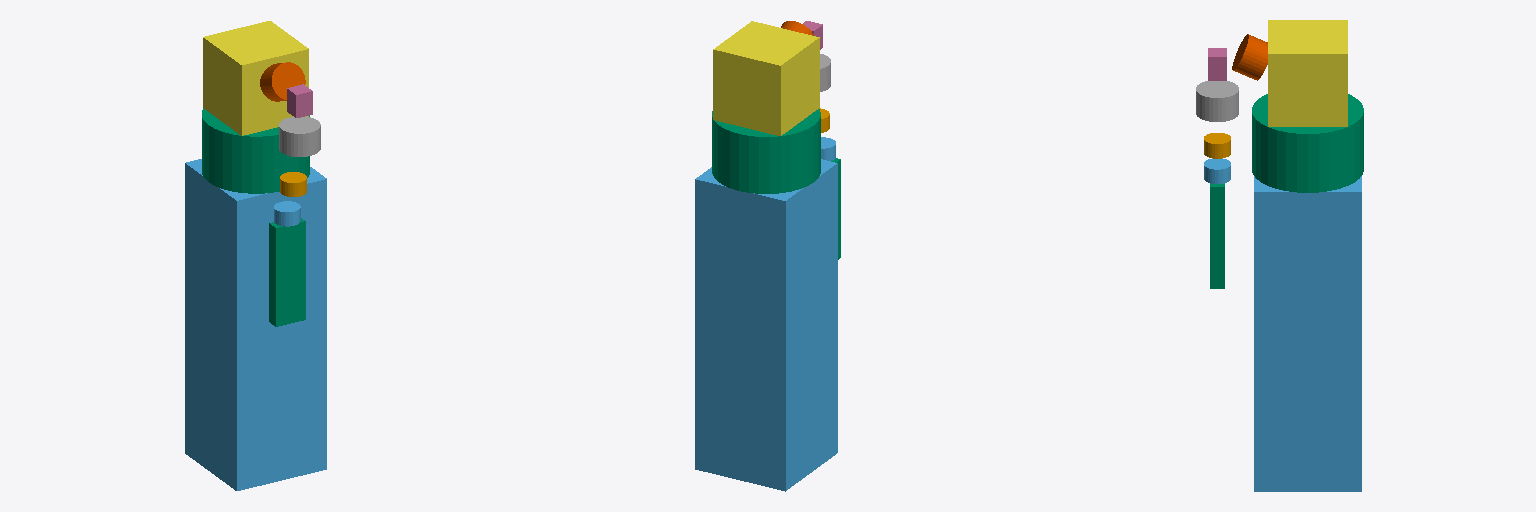
The robot description file, URDF, robot "prometheus_sim":
<?xml version="1.0"?>
<robot name="prometheus_sim">


<!-- * * * Link Definitions * * * -->
    <link name="world"/>

    <link name="base_link">
        <visual>
        <origin rpy="0 0 0" xyz="0 0 0.4112"/>
        <geometry>
            <box size="0.268 0.268 0.8224"/>
        </geometry>
        </visual>
    </link>

    <link name="torso_yaw_link">
        <visual>
        <origin rpy="0 0 0" xyz="0 0 0.08085"/>
        <geometry>
            <cylinder radius="0.14" length="0.16174"/>
        </geometry>
        </visual>
    </link>

    <link name="torso_pitch_link">
        <visual>
        <origin rpy="0 0 0" xyz="0 0 0.1"/>
        <geometry>
            <box size="0.2 0.2 0.2"/>
        </geometry>
        </visual>
    </link>

    <link name="torso_ref_origin_link">
        <visual>
        <origin rpy="0 0 0" xyz="0 0 0"/>
        <geometry>
            <box size="0.005 0.005 0.005"/>
        </geometry>
        </visual>
    </link>

    <link name="right_DOF1_link">
        <visual>
        <origin rpy="0 0 0" xyz="0 0 0.033045"/>
        <geometry>
            <cylinder radius="0.049" length="0.06609"/>
        </geometry>
        </visual>
    </link>   

    <link name="right_DOF2_link">
        <visual>
        <origin rpy="0 0 0" xyz="0 0.05827567 0.033045"/>
        <geometry>
            <box size="0.049 0.049 0.06609"/>
        </geometry>
        </visual>
    </link>

    <link name="right_DOF3_link">
        <visual>
        <origin rpy="0 0 0" xyz="0 0 0.033045"/>
        <geometry>
            <cylinder radius="0.054" length="0.06609"/>
        </geometry>
        </visual>
    </link>  

    <link name="right_DOF4_link">
        <visual>
        <origin rpy="0 0 0" xyz="0 0 0.02"/>
        <geometry>
            <cylinder radius="0.03450" length="0.04"/>
        </geometry>
        </visual>
    </link>

    <link name="right_DOF5_link">
        <visual>
        <origin rpy="0 0 0" xyz="0 0 0.02"/>
        <geometry>
            <cylinder radius="0.03450" length="0.04"/>
        </geometry>
        </visual>
    </link>

    <link name="right_DOF6_link">
        <visual>
        <origin rpy="0 0 0" xyz="0 0 0.14"/>
        <geometry>
            <box size="0.087 0.036 0.28"/>
        </geometry>
        </visual>
    </link>

<!-- * * * Joint Definitions * * * -->

    <joint name="fixed" type="fixed">
        <parent link="world"/>
        <child link="base_link"/>
    </joint>

    <joint name="torso_yaw_joint" type="revolute">
        <parent link="base_link"/>
        <child link="torso_yaw_link"/>
        <origin xyz="0 0 0.8224" rpy="0 0 0"/>
        <limit lower="-1.57079" upper="1.57079" effort="0.1" velocity="0.01"/>
        <axis xyz="0 0 1"/>
    </joint>

    <joint name="torso_pitch_joint" type="revolute">
        <parent link="torso_yaw_link"/>
        <child link="torso_pitch_link"/>
        <origin xyz="0 0 0.16174" rpy="0 0 0"/>
        <limit lower="-0.174533" upper="0.610865" effort="0.1" velocity="0.01"/>
        <axis xyz="0 1 0"/>
    </joint>

    <joint name="torso_ref_joint" type="fixed">
        <parent link="torso_pitch_link"/>
        <child link="torso_ref_origin_link"/>
        <origin xyz="0 0 0.08100989" rpy="0 0 0"/>
    </joint>

    <joint name="right_DOF1_joint" type="revolute">
        <parent link="torso_ref_origin_link"/>
        <child link="right_DOF1_link"/>
        <origin xyz="0 -0.10758116 0.05016592" rpy="1.13446 0 0"/>
        <limit lower="-0.872664626" upper="3.14159" effort="0.1" velocity="0.01"/>
        <axis xyz="0 0 1"/>
    </joint>

    <joint name="right_DOF2_joint" type="revolute">
        <parent link="right_DOF1_link"/>
        <child link="right_DOF2_link"/>
        <origin xyz="0 0 0.06503000" rpy="2.00713 0 0"/>
        <limit lower="-2.44346095" upper="0.174533" effort="0.1" velocity="0.01"/>
        <axis xyz="1 0 0"/>
    </joint>

    <joint name="right_DOF3_joint" type="revolute">
        <parent link="right_DOF2_link"/>
        <child link="right_DOF3_link"/>
        <origin xyz="0 0.05827567 0.10006000" rpy="0 0 0"/>
        <limit lower="-1.91986218" upper="2.44346095" effort="0.1" velocity="0.01"/>
        <axis xyz="0 0 1"/>
    </joint>

    <joint name="right_DOF4_joint" type="revolute">
        <parent link="right_DOF3_link"/>
        <child link="right_DOF4_link"/>
        <origin xyz="-0.01852500 0 0.14434000" rpy="0 0 0"/>
        <limit lower="-0.174533" upper="2.26893" effort="0.1" velocity="0.01"/>
        <axis xyz="0 1 0"/>
    </joint>

    <joint name="right_DOF5_joint" type="revolute">
        <parent link="right_DOF4_link"/>
        <child link="right_DOF5_link"/>
        <origin xyz="-0.01852620 0 0.07852620" rpy="0 0 0"/>
        <limit lower="-2.26893" upper="2.26893" effort="0.1" velocity="0.01"/>
        <axis xyz="0 0 1"/>
    </joint>

    <joint name="right_DOF6_joint" type="revolute">
        <parent link="right_DOF5_link"/>
        <child link="right_DOF6_link"/>
        <origin xyz="0 0 0.04330000" rpy="0 0 0"/>
        <limit lower="-1.22173048" upper="1.57079633" effort="0.1" velocity="0.01"/>
        <axis xyz="1 0 0"/>
    </joint>


</robot>

--- Render facts (derived) ---
Views: 3 orthographic renders of the robot side by side, from view 1: azimuth 30°, elevation 25°; view 2: azimuth 150°, elevation 25°; view 3: azimuth 270°, elevation 25°.
Model prometheus_sim with 11 links and 10 joints (8 revolute, 2 fixed), rooted at world, posed every joint at zero.
Links seen in each view (by area): view 1: base_link, torso_pitch_link, torso_yaw_link, right_DOF6_link, right_DOF3_link, right_DOF1_link, right_DOF2_link, right_DOF5_link, right_DOF4_link; view 2: base_link, torso_pitch_link, torso_yaw_link; view 3: base_link, torso_pitch_link, torso_yaw_link, right_DOF3_link, right_DOF6_link, right_DOF1_link, right_DOF4_link, right_DOF5_link, right_DOF2_link.
Boxes of the visible links, left/top/right/bottom form: base_link: left=185, top=159, right=326, bottom=490; torso_pitch_link: left=203, top=21, right=308, bottom=135; torso_yaw_link: left=202, top=108, right=309, bottom=193; right_DOF6_link: left=269, top=218, right=305, bottom=326; right_DOF3_link: left=279, top=116, right=320, bottom=156; right_DOF1_link: left=260, top=62, right=305, bottom=101; right_DOF2_link: left=287, top=84, right=312, bottom=117; right_DOF5_link: left=274, top=201, right=300, bottom=226; right_DOF4_link: left=280, top=172, right=306, bottom=196; base_link: left=695, top=159, right=837, bottom=491; torso_pitch_link: left=713, top=21, right=819, bottom=135; torso_yaw_link: left=712, top=109, right=820, bottom=193; base_link: left=1254, top=176, right=1361, bottom=491; torso_pitch_link: left=1268, top=20, right=1347, bottom=126; torso_yaw_link: left=1252, top=94, right=1363, bottom=192; right_DOF3_link: left=1196, top=81, right=1238, bottom=121; right_DOF6_link: left=1210, top=183, right=1224, bottom=288; right_DOF1_link: left=1232, top=34, right=1267, bottom=80; right_DOF4_link: left=1204, top=133, right=1230, bottom=158; right_DOF5_link: left=1204, top=158, right=1230, bottom=183; right_DOF2_link: left=1208, top=48, right=1226, bottom=80.
Bounding box of the posed robot: 0.28 × 0.4188 × 1.19 m (x, y, z).
Geometry: primitives only (box / cylinder / sphere), no mesh files.